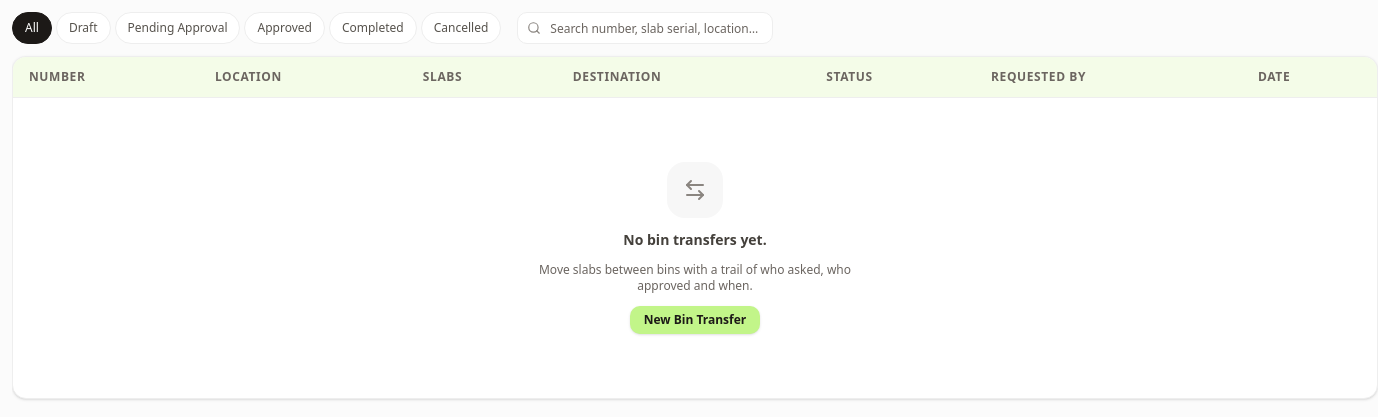
Scenario: BinTransferTable › invites a first transfer when there are none, and offers none when filtered
Expected: the text "No bin transfers yet." is shown, 623,230 -> 767,250
Click the button "New Bin Transfer". click: (695, 320)
box: 630,306 -> 760,334
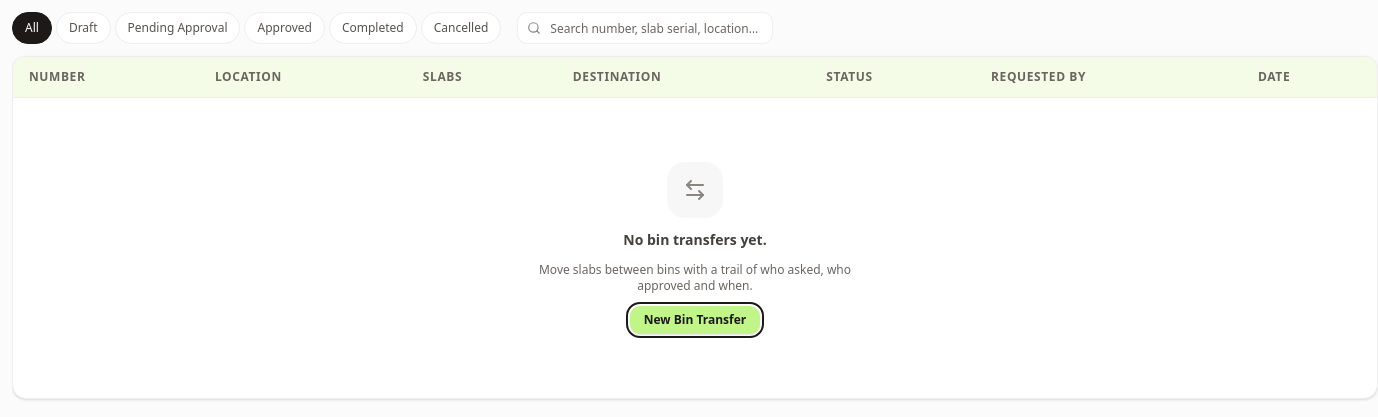
Click the button "Draft". click: (83, 28)
box: 56,12 -> 111,44
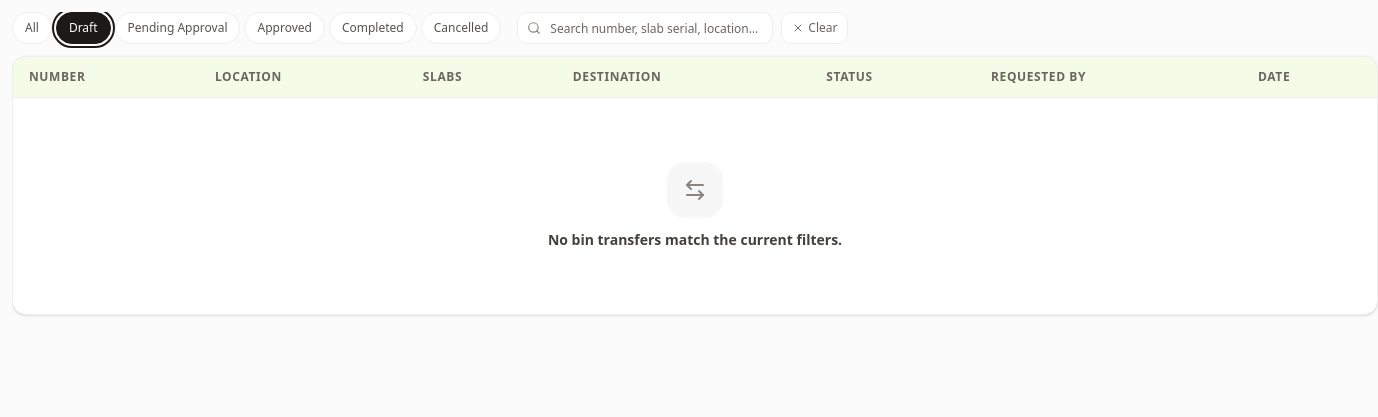
Result: the text "No bin transfers match the current filters." is shown at 548,230 -> 842,250
Result: the button "New Bin Transfer" is gone
